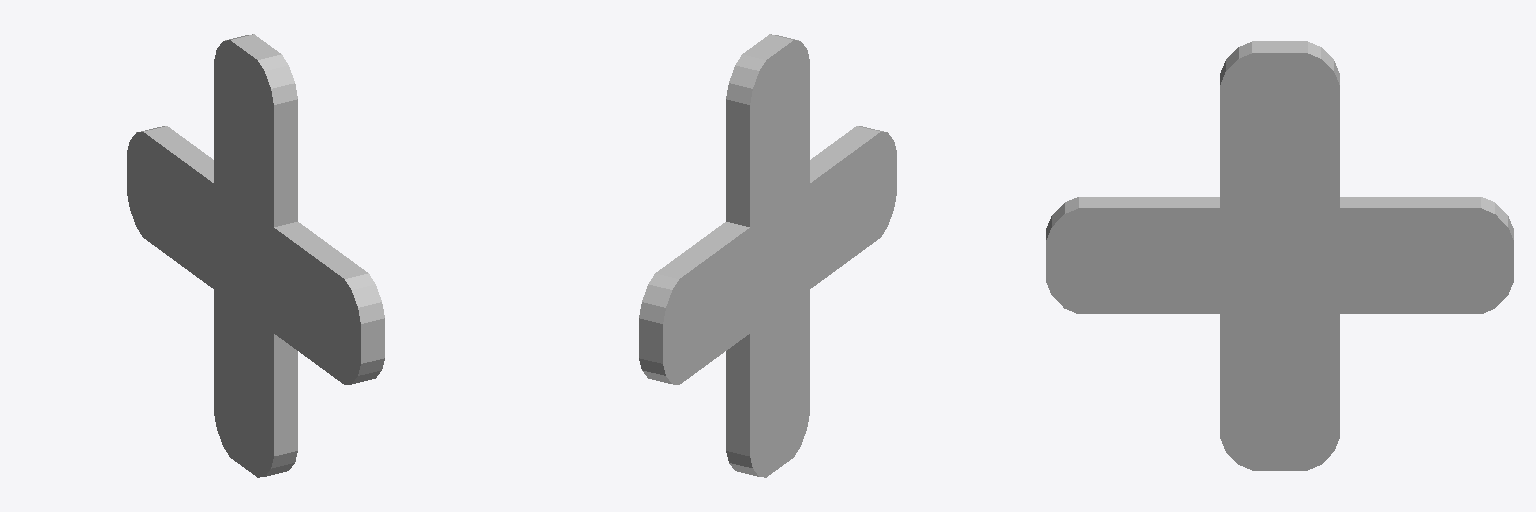
Rendered from healthpack.obj.
3 renders of one model, left to right at view 1: azimuth 30°, elevation 25°; view 2: azimuth 150°, elevation 25°; view 3: azimuth 270°, elevation 25°, orthographic.
Parts seen in each view (by area): view 1: Box144; view 2: Box144; view 3: Box144.
Boxes of the visible parts, <box> form: Box144: <box>127,34,384,477</box>; Box144: <box>639,34,896,477</box>; Box144: <box>1046,41,1513,470</box>.
Bounding box in the file's own units: 0.0312 × 0.5153 × 0.5236.